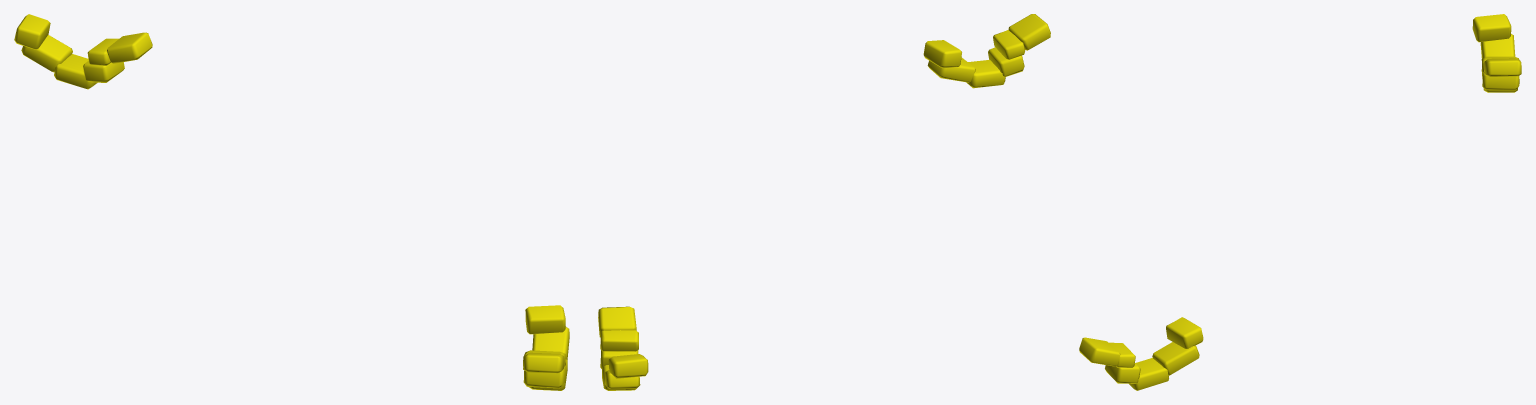
File: Tower_Battlements_02C.fbx
3 views of the same model, side by side, from view 1: azimuth 30°, elevation 25°; view 2: azimuth 150°, elevation 25°; view 3: azimuth 330°, elevation 25° (orthographic). The views are drawn at different scales.
Visible parts, largest first — view 1: Tower_Battlements_02C; view 2: Tower_Battlements_02C; view 3: Tower_Battlements_02C.
Boxes of the visible parts, x1,y1,x2,y2 form: Tower_Battlements_02C: [14, 14, 569, 390]; Tower_Battlements_02C: [598, 14, 1050, 390]; Tower_Battlements_02C: [1079, 14, 1521, 390].
Bounding box in the file's own units: 148 × 62.1 × 990.
